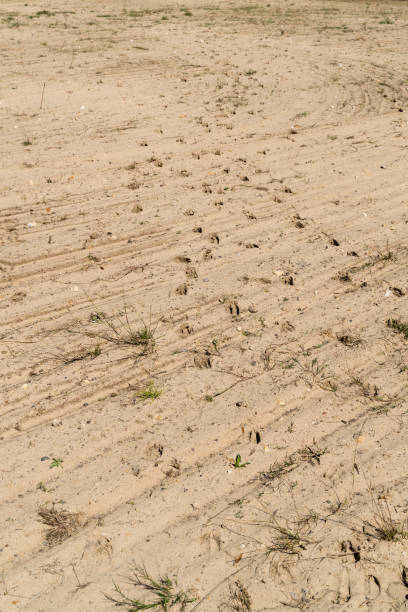animal_foot_print: (194, 351, 212, 369), (337, 334, 360, 346), (225, 299, 239, 316), (178, 323, 193, 336), (185, 266, 197, 278), (175, 283, 187, 294), (391, 287, 403, 295), (210, 233, 218, 244), (128, 180, 139, 188), (202, 183, 210, 193), (245, 242, 258, 248), (204, 249, 211, 260), (339, 273, 350, 280), (284, 276, 293, 284), (133, 204, 142, 212), (180, 170, 190, 177), (330, 239, 339, 245), (184, 209, 194, 214), (348, 251, 358, 256), (194, 226, 201, 233), (273, 195, 280, 202), (192, 152, 199, 158), (214, 149, 220, 155), (140, 141, 147, 146), (242, 176, 248, 180)
